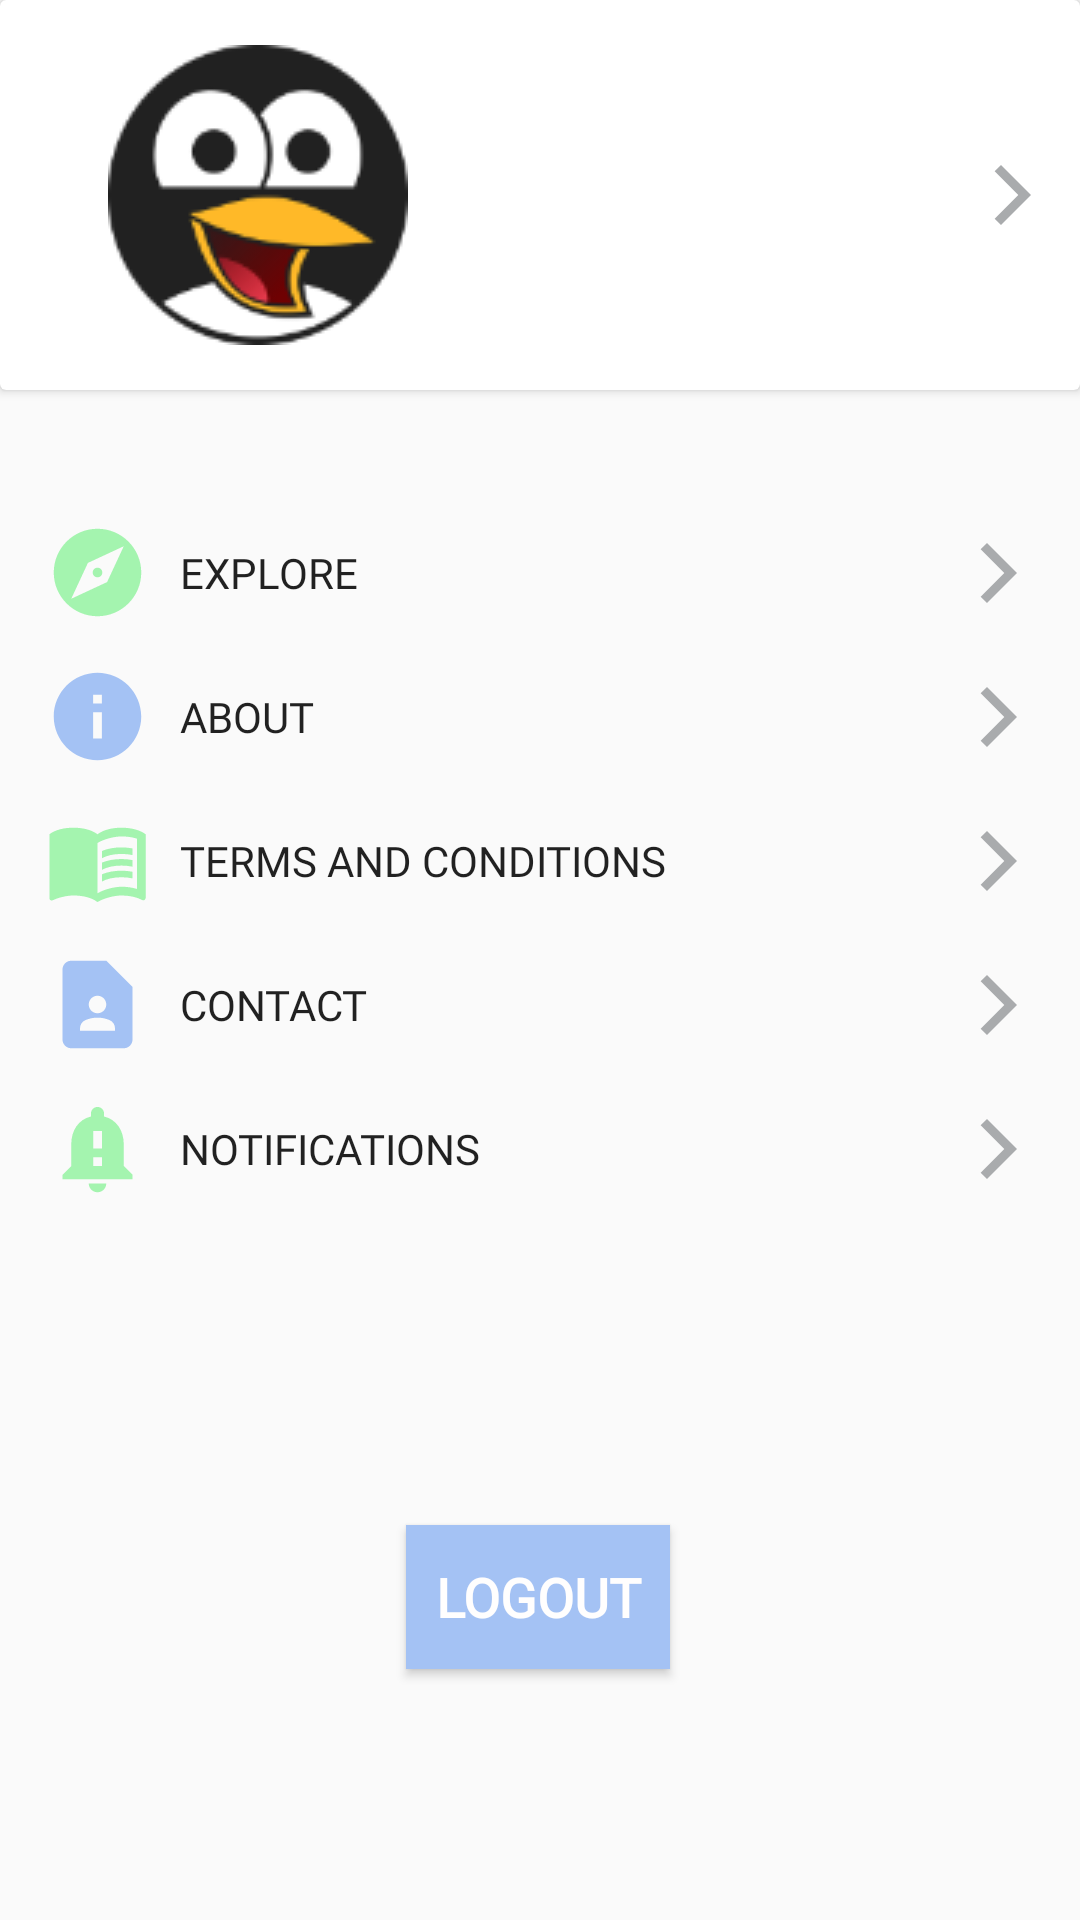

Named icons in this screenshot (1080w x 1920h) and their centers, point (x, y):
profilesmall: point (258, 195)
